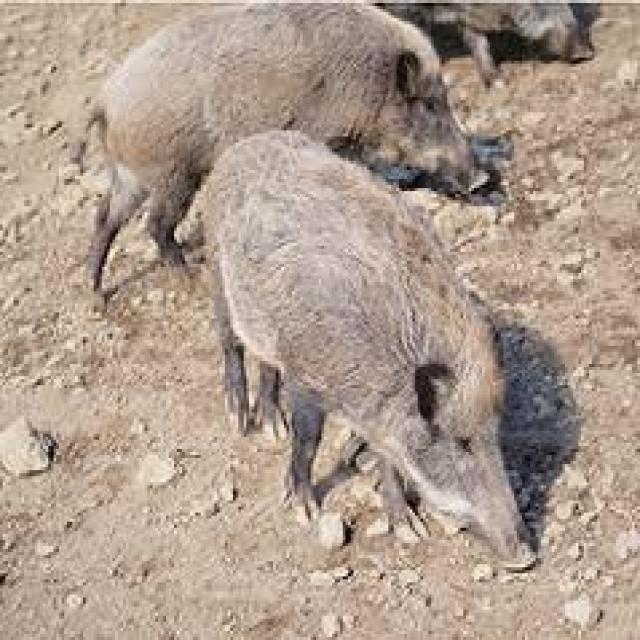boar: (202, 126, 546, 579), (72, 8, 517, 290)
